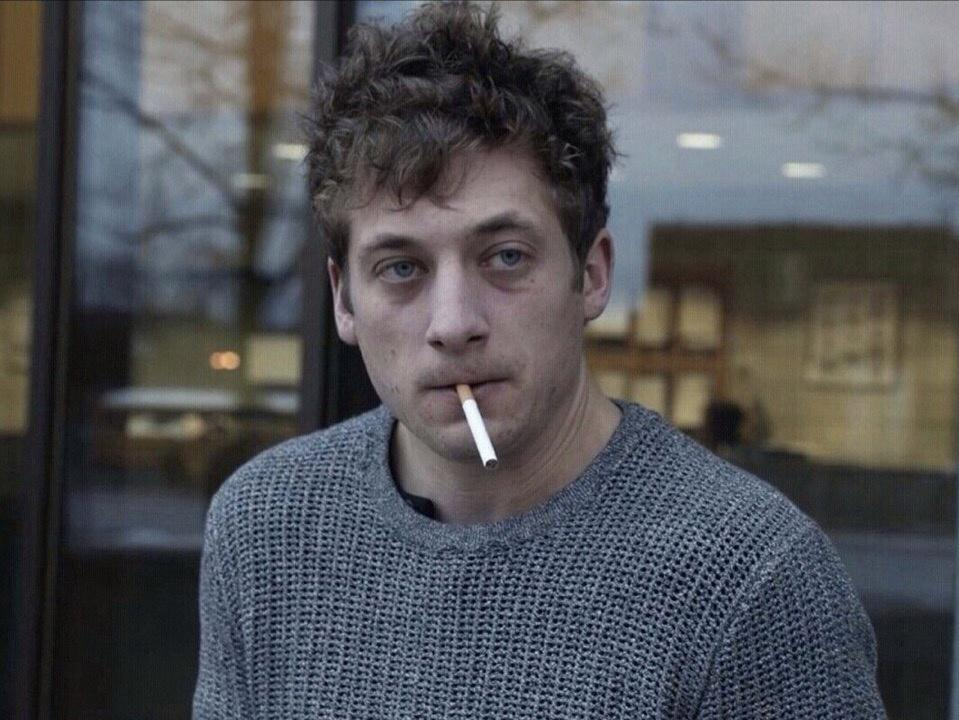cigarette: (455, 384, 498, 468)
